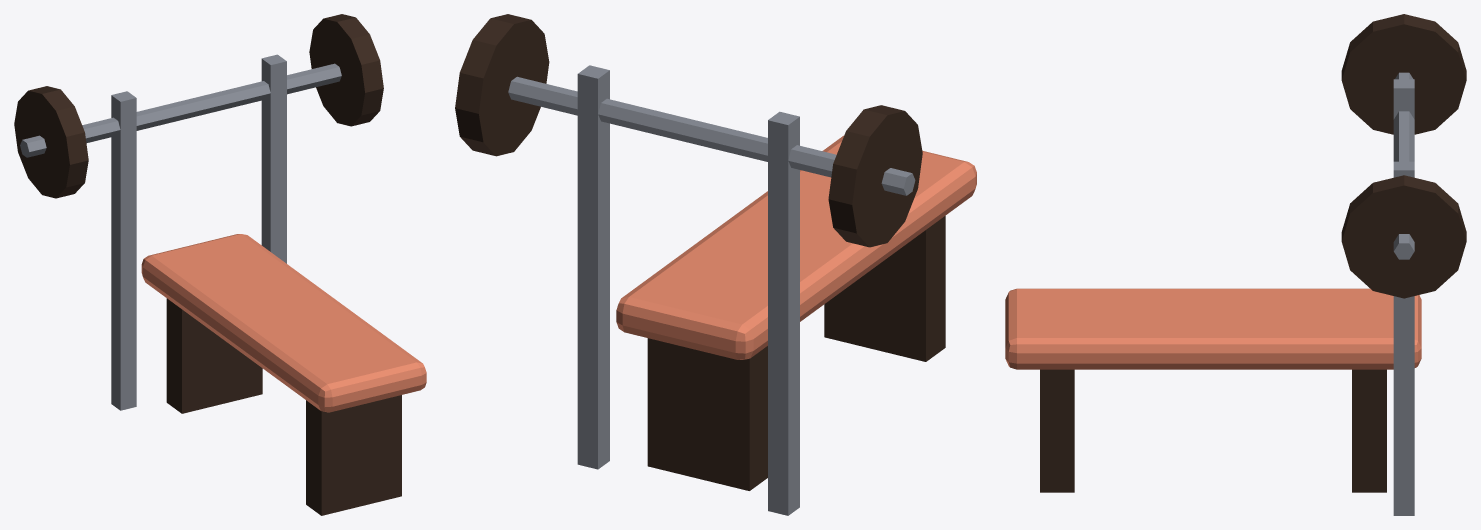
File: int_alatGym.fbx
3 views of the same model, side by side, from view 1: azimuth 30°, elevation 25°; view 2: azimuth 150°, elevation 25°; view 3: azimuth 270°, elevation 25° (orthographic). The views are drawn at different scales.
Parts seen in each view (by area): view 1: int_alatGym; view 2: int_alatGym; view 3: int_alatGym.
Part boxes in pixels (box(x1,y1,x2,y2)): int_alatGym: box(14, 14, 426, 515); int_alatGym: box(455, 14, 976, 515); int_alatGym: box(1005, 14, 1466, 515).
Bounding box in the file's own units: 130 × 118 × 133.
1 material, 1 textured.
